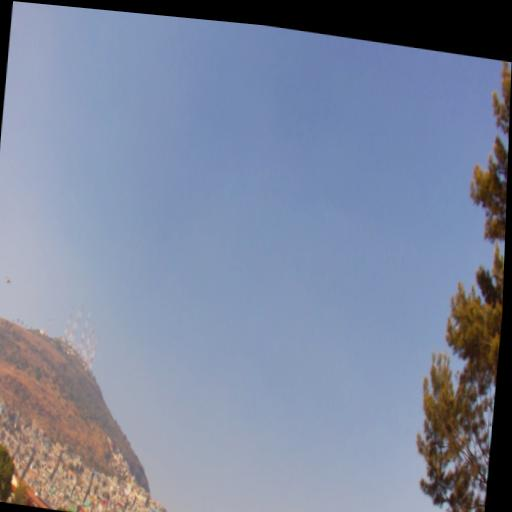drones: (3, 275, 13, 286)
